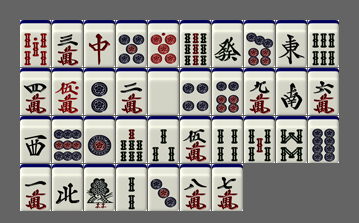0m: (52, 68, 83, 115)
0p: (148, 20, 179, 67)
0s: (20, 20, 51, 67)
1m: (20, 164, 51, 211)
1p: (84, 116, 115, 163)
1s: (84, 164, 115, 211)
1z: (276, 20, 307, 67)
2m: (116, 68, 147, 115)
2p: (84, 68, 115, 115)
2s: (116, 164, 147, 211)
2z: (276, 68, 307, 115)
3m: (52, 20, 83, 67)
3p: (148, 164, 179, 211)
3s: (148, 116, 179, 163)
3z: (20, 116, 51, 163)
4m: (20, 68, 51, 115)
4p: (180, 68, 211, 115)
4s: (212, 116, 243, 163)
4z: (52, 164, 83, 211)
5m: (180, 116, 211, 163)
5p: (116, 20, 147, 67)
5s: (244, 116, 275, 163)
5z: (148, 68, 179, 115)
6m: (308, 68, 339, 115)
6p: (212, 68, 243, 115)
6s: (308, 20, 339, 67)
6z: (212, 20, 243, 67)
7m: (212, 164, 243, 211)
7p: (244, 20, 275, 67)
7s: (116, 116, 147, 163)
7z: (84, 20, 115, 67)
8m: (180, 164, 211, 211)
8p: (308, 116, 339, 163)
8s: (276, 116, 307, 163)
9m: (244, 68, 275, 115)
9p: (52, 116, 83, 163)
9s: (180, 20, 211, 67)
